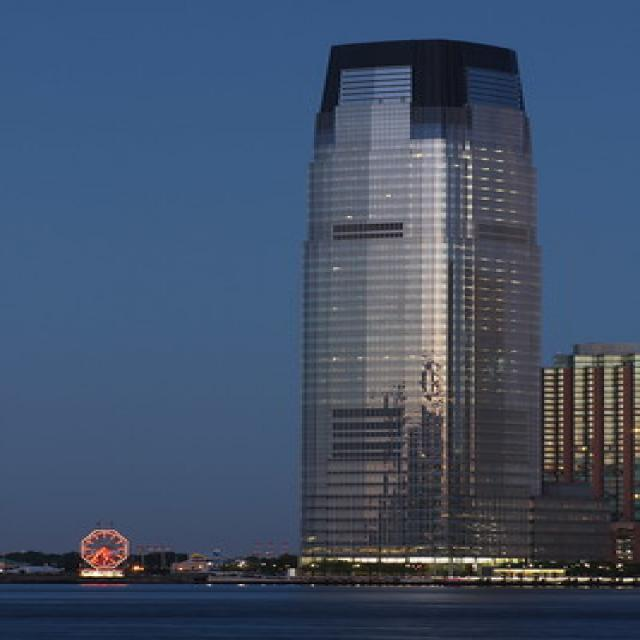Normal_building: (295, 33, 551, 580)
